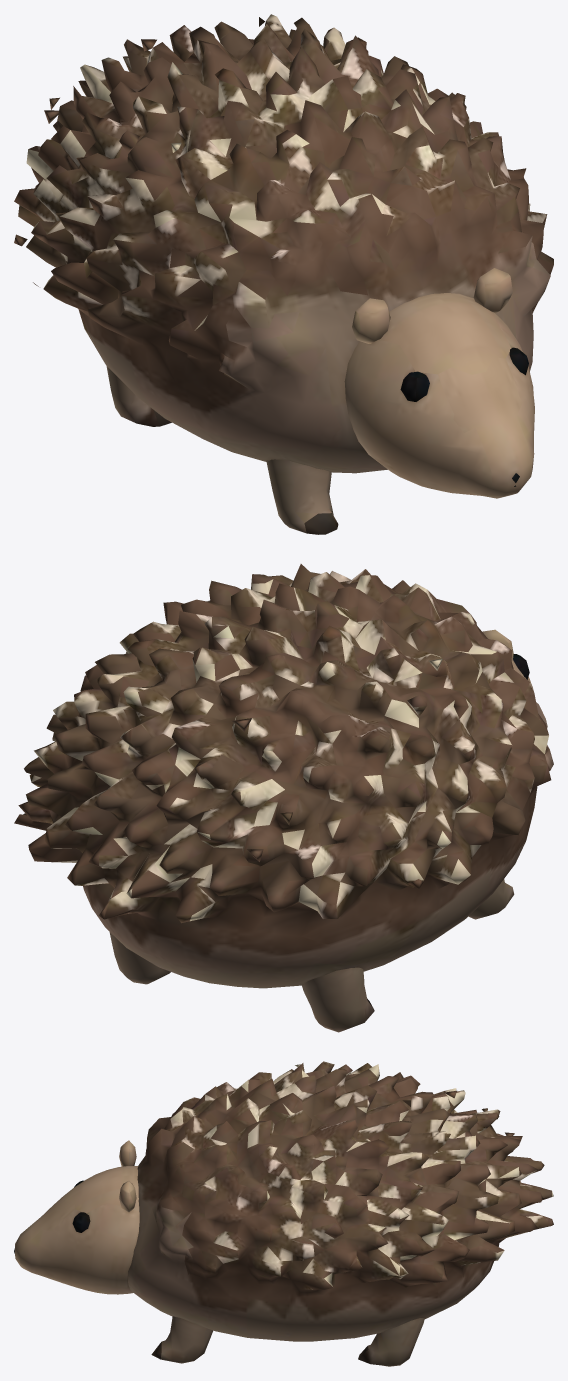
The model's file is hedgehog.glb.
3 views of the same model, one above another, from view 1: azimuth 30°, elevation 25°; view 2: azimuth 150°, elevation 25°; view 3: azimuth 270°, elevation 25° (orthographic). The views are drawn at different scales.
Visible parts, largest first — view 1: hedgehog, head, leg0, leg2; view 2: hedgehog, leg2, leg3, leg0, head; view 3: hedgehog, head, leg3, leg1.
Boxes of the visible parts, <box> form: hedgehog: <box>14,14,553,473</box>; head: <box>344,268,534,498</box>; leg0: <box>266,459,338,534</box>; leg2: <box>106,366,171,426</box>; hedgehog: <box>14,564,553,988</box>; leg2: <box>302,967,374,1032</box>; leg3: <box>109,932,170,984</box>; leg0: <box>468,879,514,919</box>; head: <box>482,629,533,691</box>; hedgehog: <box>127,1061,553,1341</box>; head: <box>14,1140,139,1294</box>; leg3: <box>358,1318,424,1366</box>; leg1: <box>151,1316,212,1363</box>.
Size of the model in its own units: 0.1581 by 0.1291 by 0.2489.
1 material, 1 textured.
